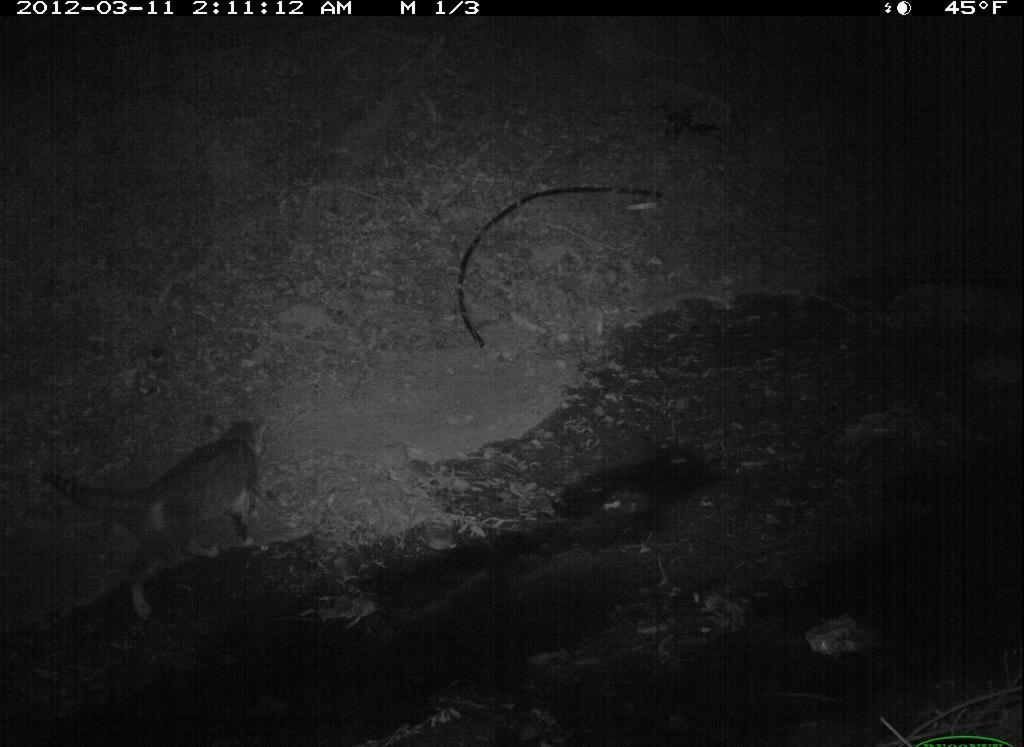cat: (36, 402, 283, 632)
